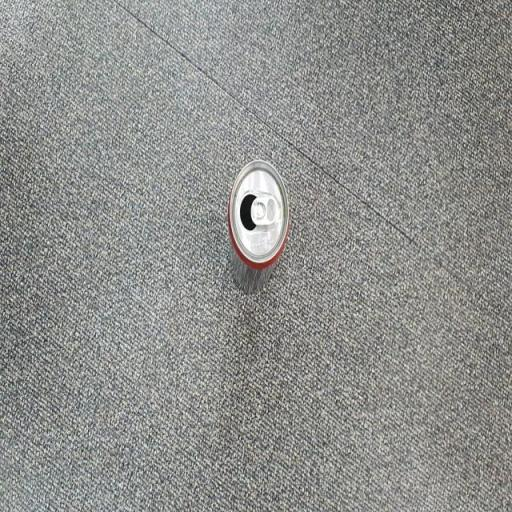metal: (208, 113, 312, 329)
